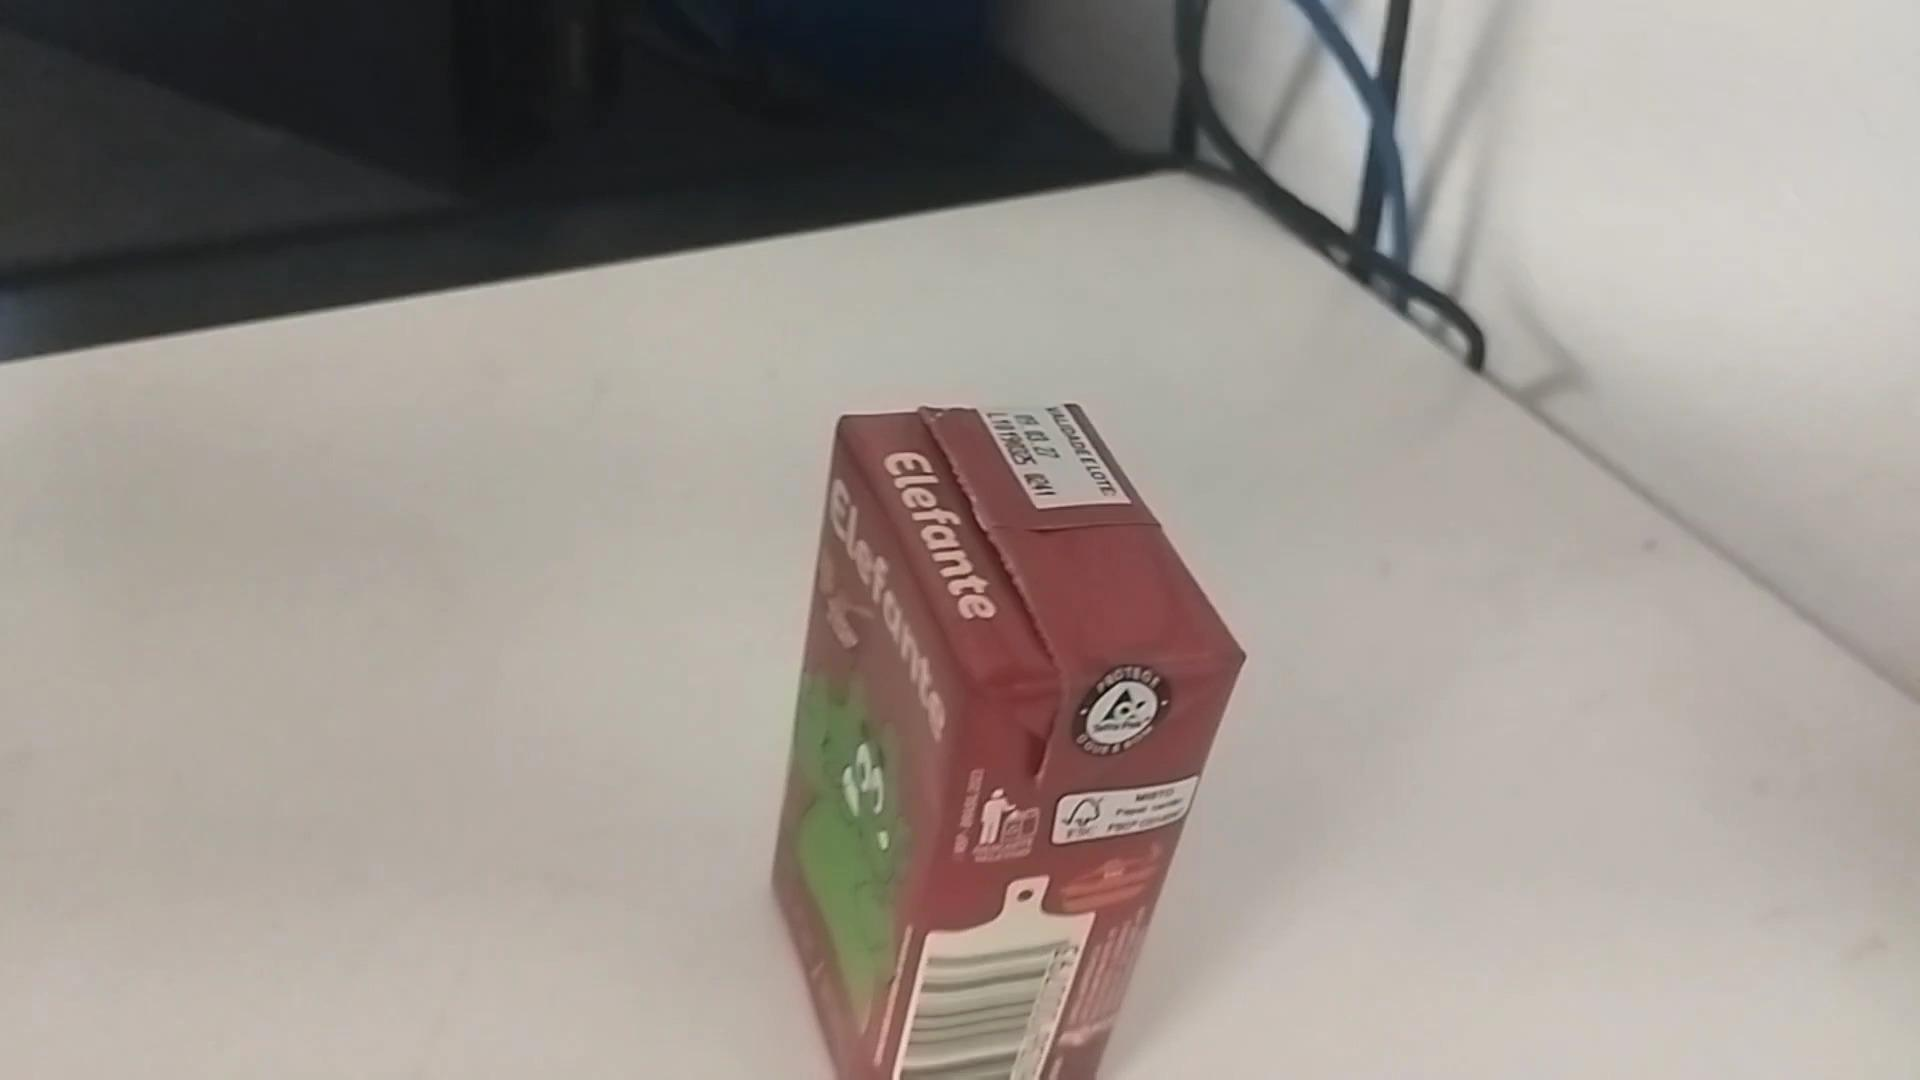tomate: (753, 382, 1255, 1072)
